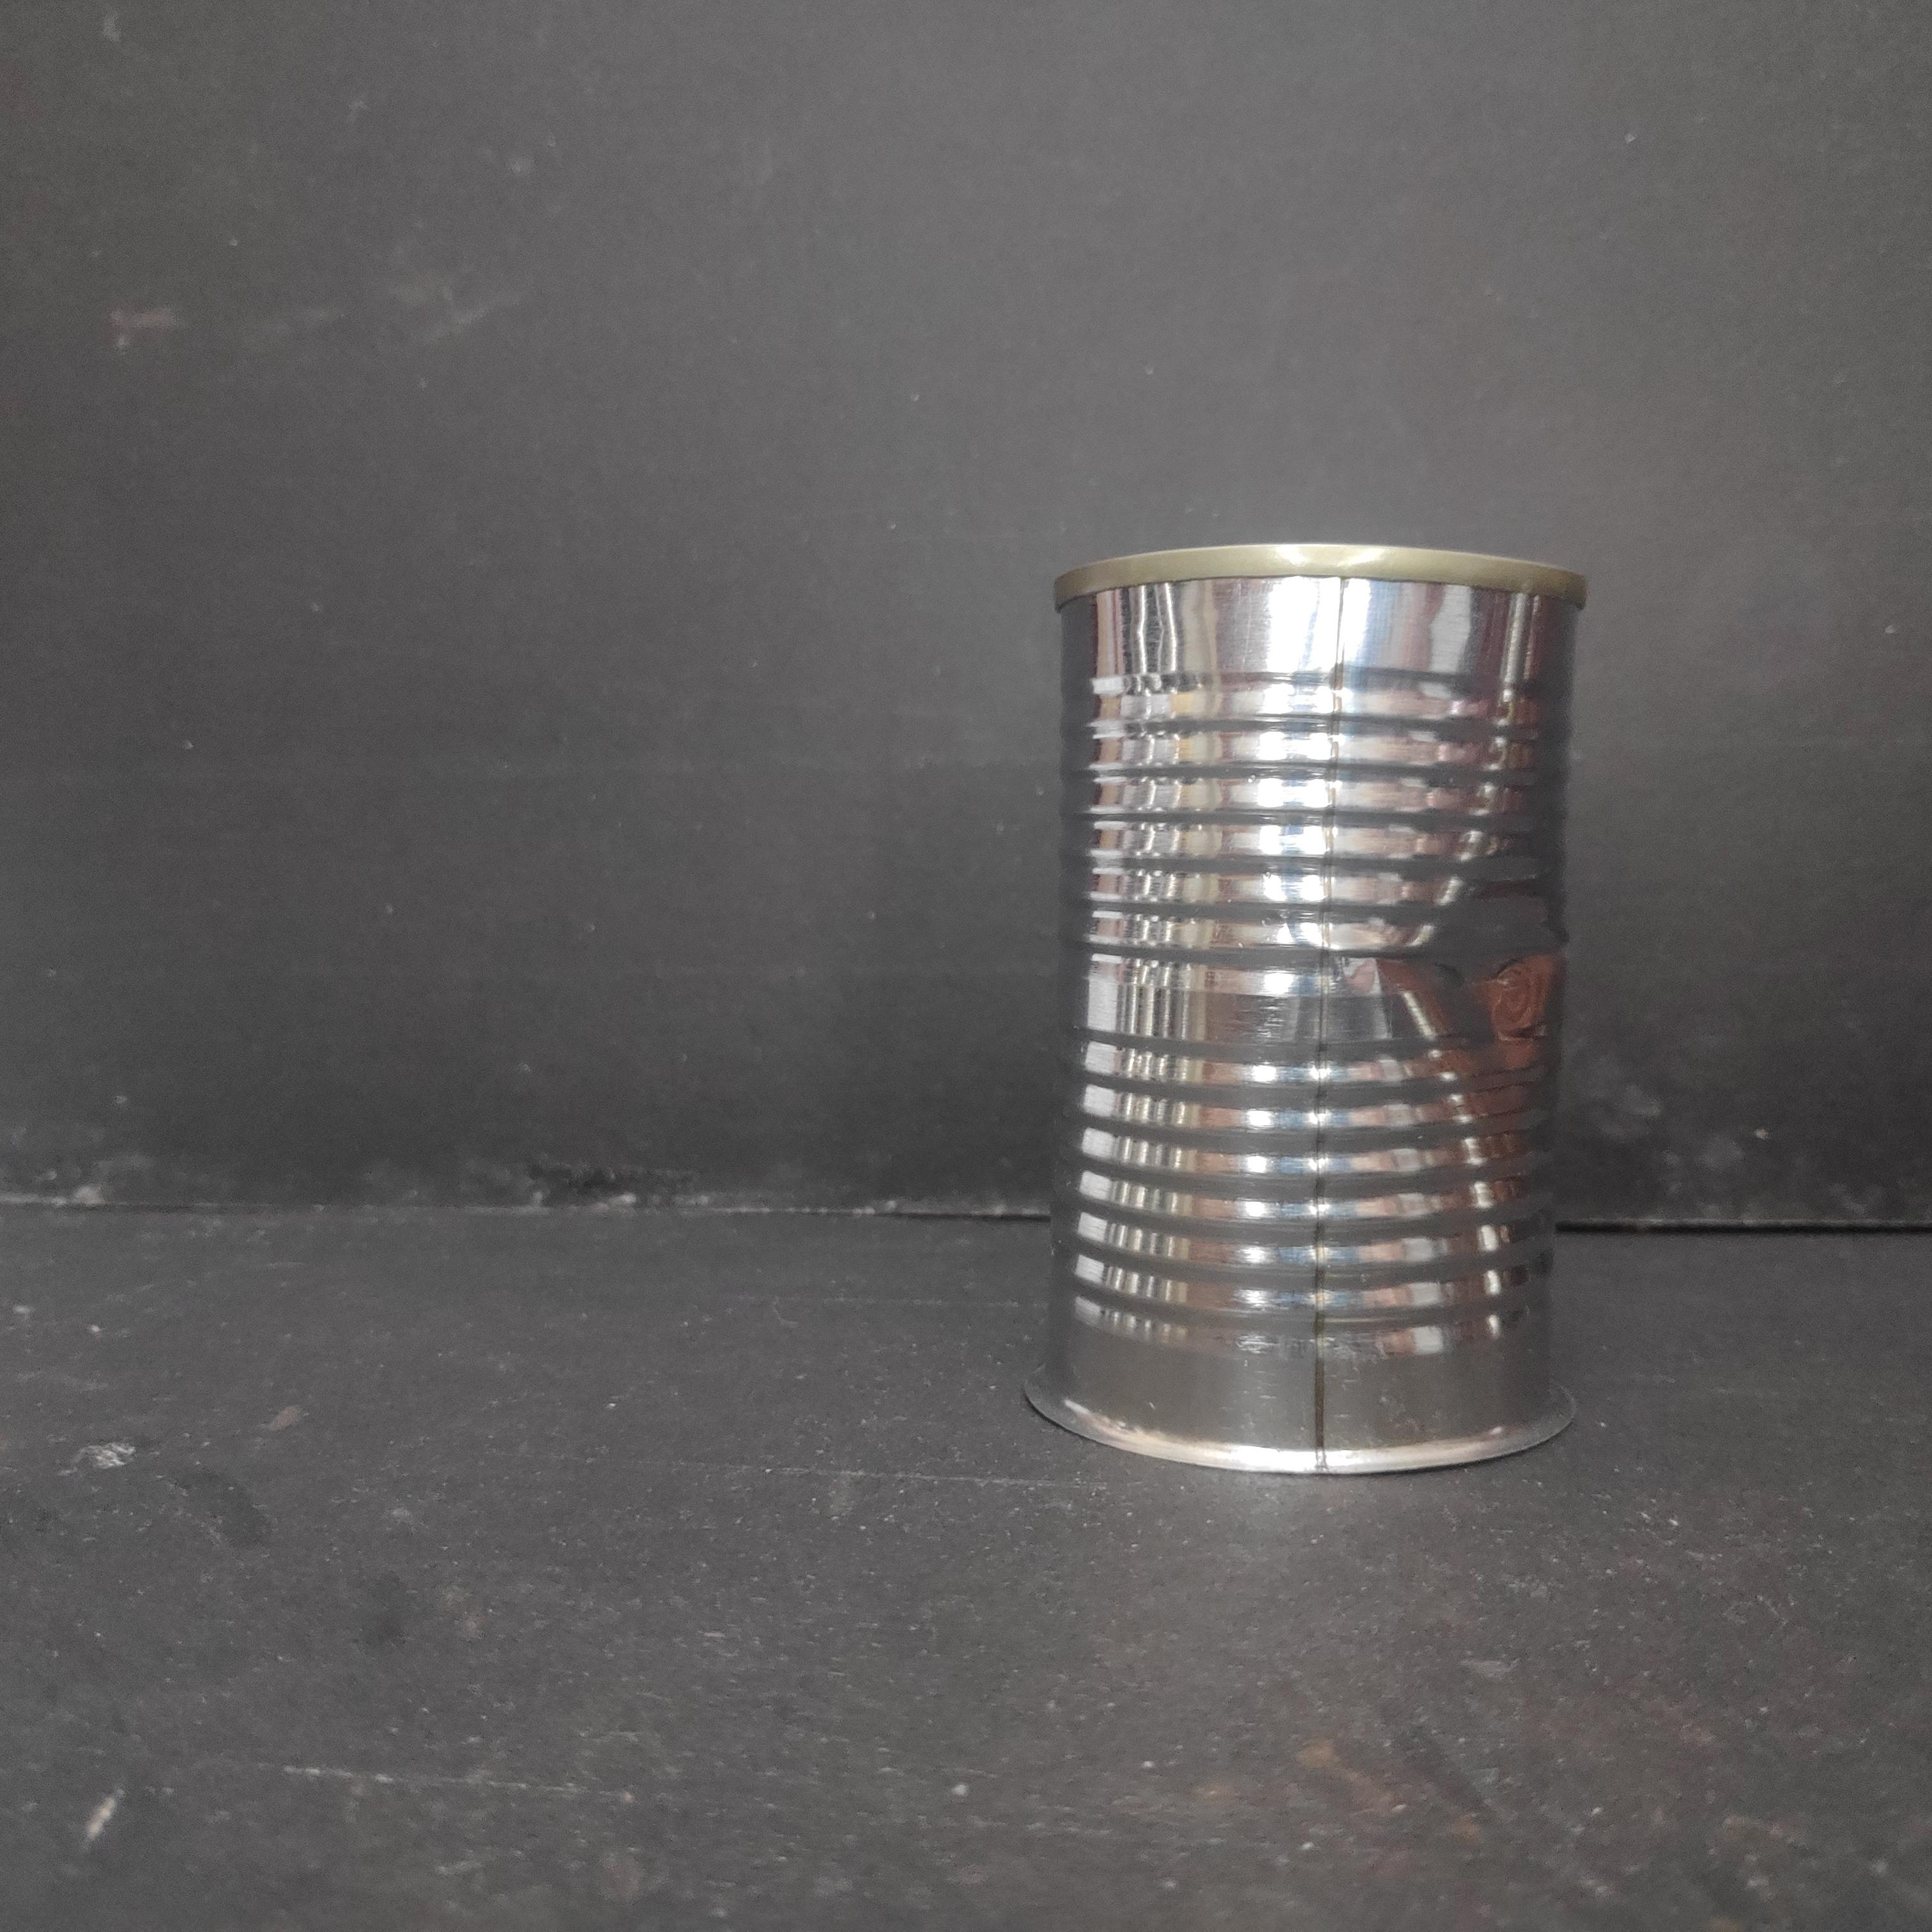Minor Defect: (1042, 531, 1594, 1493)
